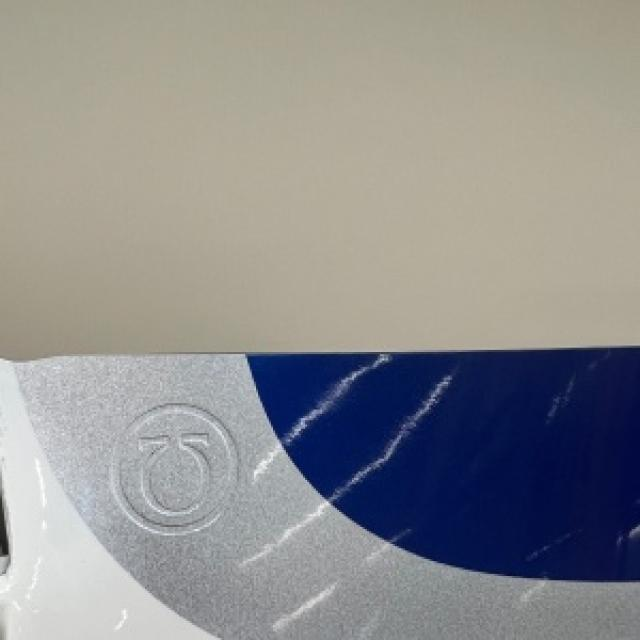healthy: (0, 346, 638, 638)
